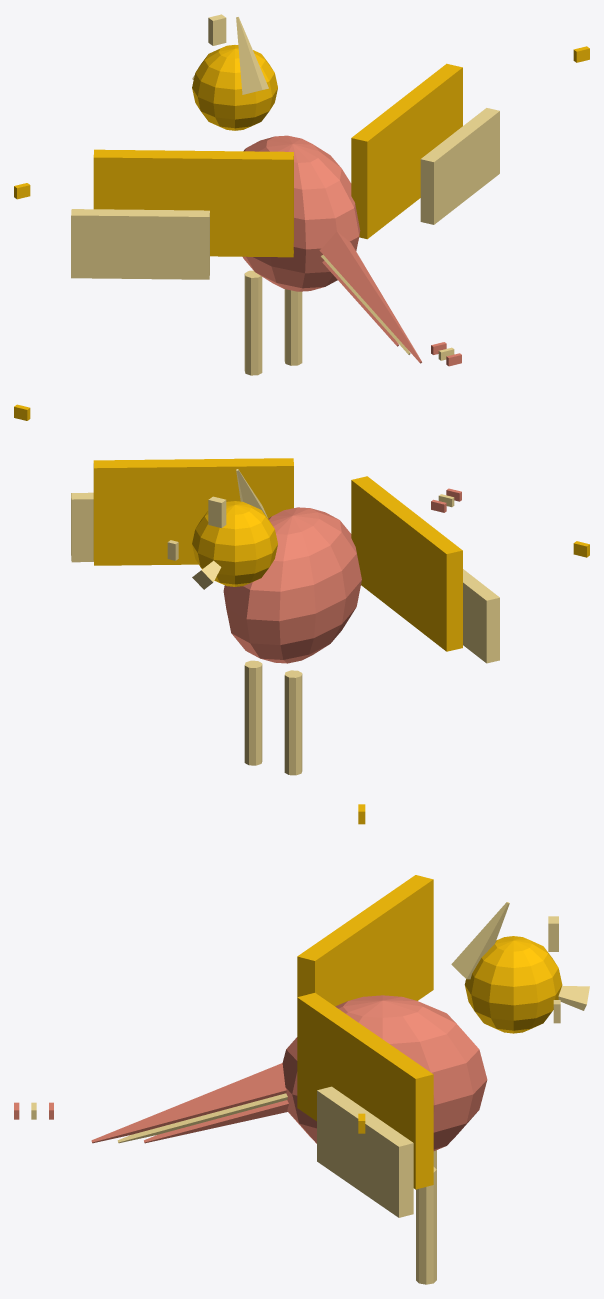
File: phoenix.glb
The picture shows the model from 3 angles, top to bottom: view 1: azimuth 30°, elevation 25°; view 2: azimuth 150°, elevation 25°; view 3: azimuth 270°, elevation 25°; orthographic projection. The views are drawn at different scales.
Parts seen in each view (by area): view 1: phoenix_wing_L, phoenix_wing_R, phoenix_wing_L_api, phoenix_body, phoenix_wing_R_api, phoenix_head, phoenix_tail2, phoenix_leg_FL, phoenix_leg_FR, phoenix_jambul, phoenix_crest; view 2: phoenix_wing_R, phoenix_body, phoenix_wing_L, phoenix_head, phoenix_wing_L_api, phoenix_leg_FL, phoenix_leg_FR, phoenix_wing_R_api, phoenix_crest; view 3: phoenix_wing_R, phoenix_wing_L, phoenix_body, phoenix_wing_R_api, phoenix_head, phoenix_tail2, phoenix_leg_FR, phoenix_jambul, phoenix_tail0, phoenix_tail1.
Boxes of the visible parts, x1,y1,x2,y2 form: phoenix_wing_L: (93, 149, 293, 257); phoenix_wing_R: (351, 63, 462, 239); phoenix_wing_L_api: (71, 209, 209, 279); phoenix_body: (242, 135, 360, 291); phoenix_wing_R_api: (420, 108, 499, 224); phoenix_head: (192, 45, 277, 130); phoenix_tail2: (319, 231, 421, 363); phoenix_leg_FL: (244, 270, 262, 375); phoenix_leg_FR: (284, 289, 302, 365); phoenix_jambul: (236, 17, 268, 94); phoenix_crest: (208, 14, 226, 45); phoenix_wing_R: (93, 458, 293, 565); phoenix_body: (223, 507, 361, 663); phoenix_wing_L: (351, 476, 462, 651); phoenix_head: (192, 501, 277, 586); phoenix_wing_L_api: (463, 569, 499, 663); phoenix_leg_FL: (284, 670, 302, 775); phoenix_leg_FR: (244, 660, 262, 765); phoenix_wing_R_api: (71, 492, 93, 562); phoenix_crest: (208, 496, 226, 527); phoenix_wing_R: (297, 993, 433, 1189); phoenix_wing_L: (297, 875, 433, 1006); phoenix_body: (282, 995, 487, 1150); phoenix_wing_R_api: (317, 1086, 413, 1217); phoenix_head: (464, 936, 562, 1033); phoenix_tail2: (91, 1063, 286, 1143); phoenix_leg_FR: (416, 1167, 436, 1284); phoenix_jambul: (451, 902, 509, 979); phoenix_tail0: (144, 1100, 288, 1143); phoenix_tail1: (117, 1093, 287, 1143).
Bounding box in the file's own units: 4.3 × 2.32 × 3.3.
